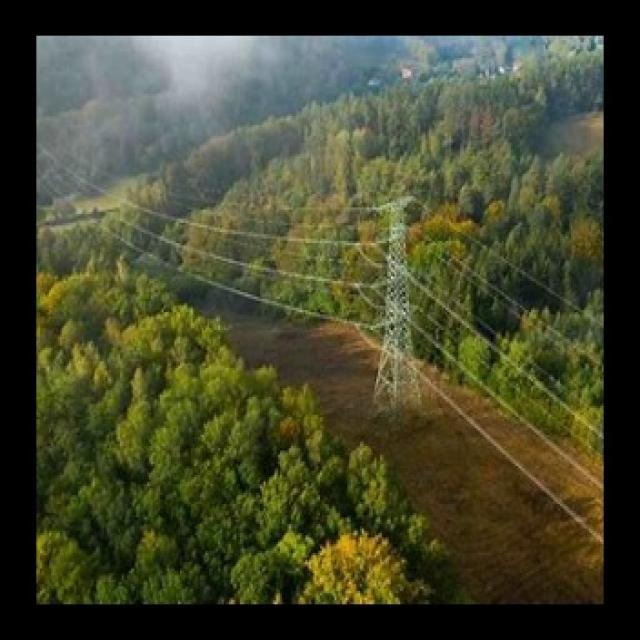utility poles: (366, 189, 436, 418)
